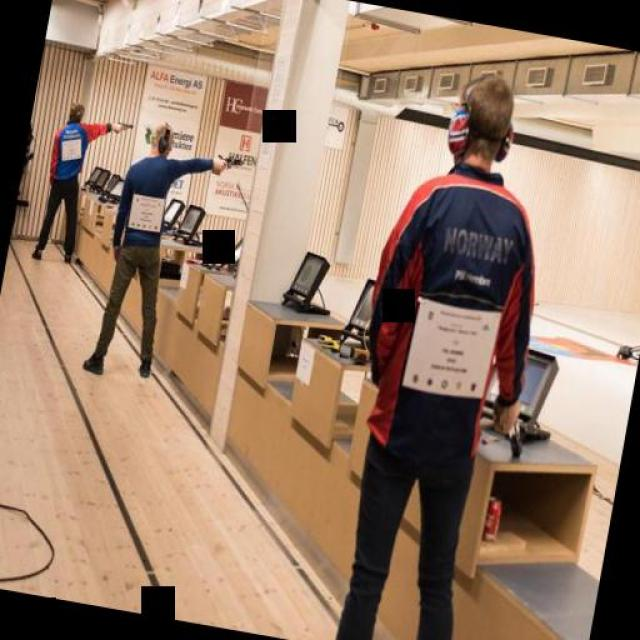gun: (208, 146, 248, 182), (112, 116, 136, 138)
